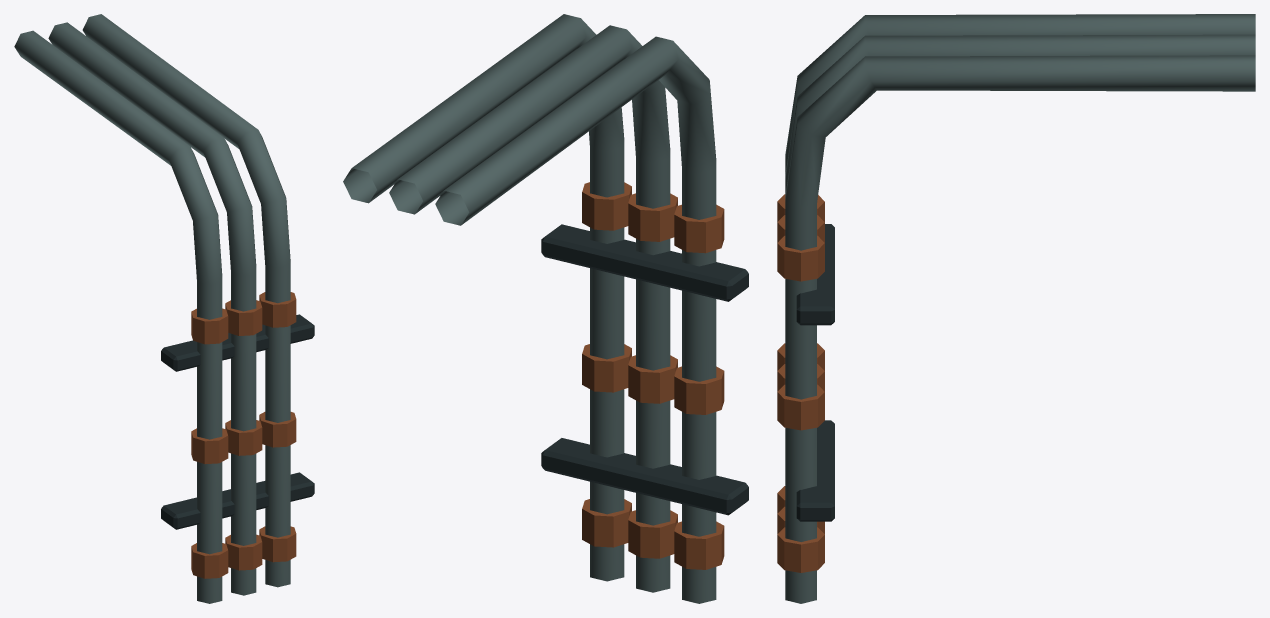
File: conduit_bundle.glb
3 renders of one model, left to right at view 1: azimuth 30°, elevation 25°; view 2: azimuth 150°, elevation 25°; view 3: azimuth 270°, elevation 25°, orthographic. The views are drawn at different scales.
Visible parts, largest first — view 1: body.005_mesh; view 2: body.005_mesh; view 3: body.005_mesh.
Part boxes in pixels (box(x1,y1,x2,y2)): body.005_mesh: box(14, 14, 314, 603); body.005_mesh: box(343, 14, 748, 603); body.005_mesh: box(777, 14, 1255, 603).
Size of the model in its own units: 0.58 by 1.7 by 1.37.
